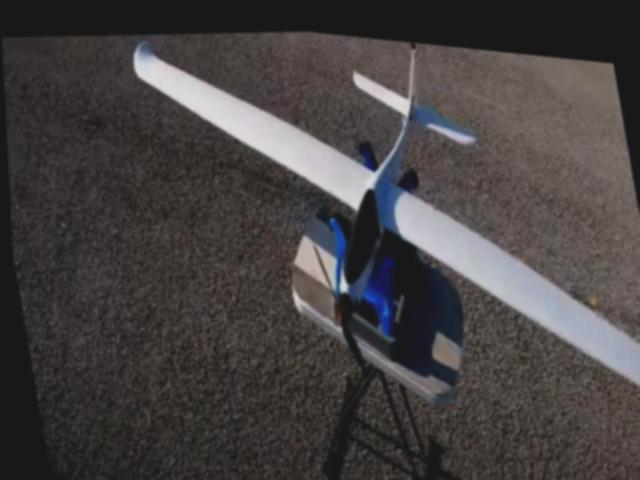iha: (127, 10, 640, 454)
